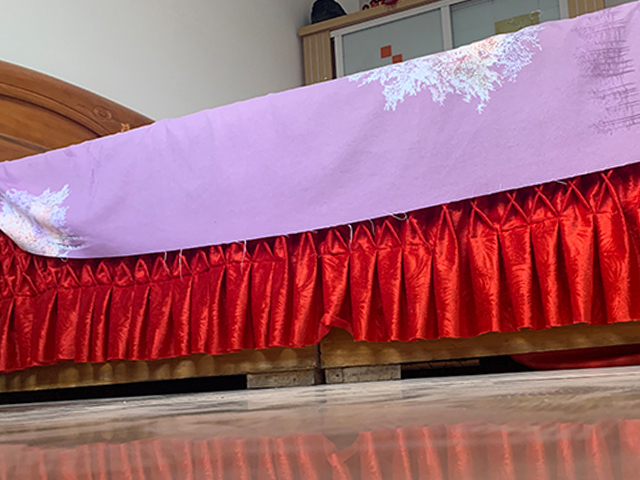bed: (1, 1, 640, 391)
